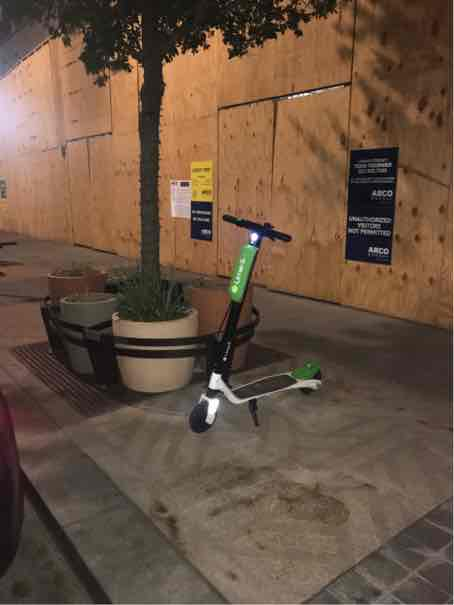scooter: (182, 218, 335, 432)
